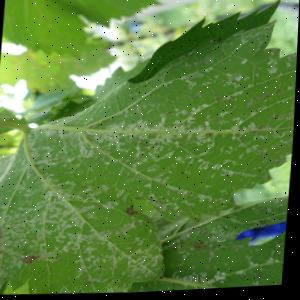Folha: (0, 0, 300, 300)
Fungo: (79, 111, 246, 160), (15, 182, 117, 261), (74, 11, 176, 76), (106, 242, 175, 282), (27, 136, 86, 179), (68, 238, 126, 281), (125, 143, 180, 182), (238, 122, 295, 159), (188, 156, 251, 188), (0, 207, 28, 275), (38, 121, 106, 146), (235, 220, 289, 251), (156, 179, 204, 213), (245, 252, 287, 283), (0, 78, 31, 115), (233, 26, 276, 51), (201, 223, 242, 247), (209, 265, 249, 289), (244, 90, 284, 111), (177, 70, 215, 88), (181, 56, 220, 68), (0, 265, 17, 291), (126, 197, 144, 218), (116, 222, 139, 238), (180, 273, 209, 285), (220, 76, 244, 88), (191, 241, 212, 252), (24, 254, 42, 265), (126, 205, 140, 217), (189, 93, 203, 100), (259, 95, 273, 101), (275, 91, 283, 98)
